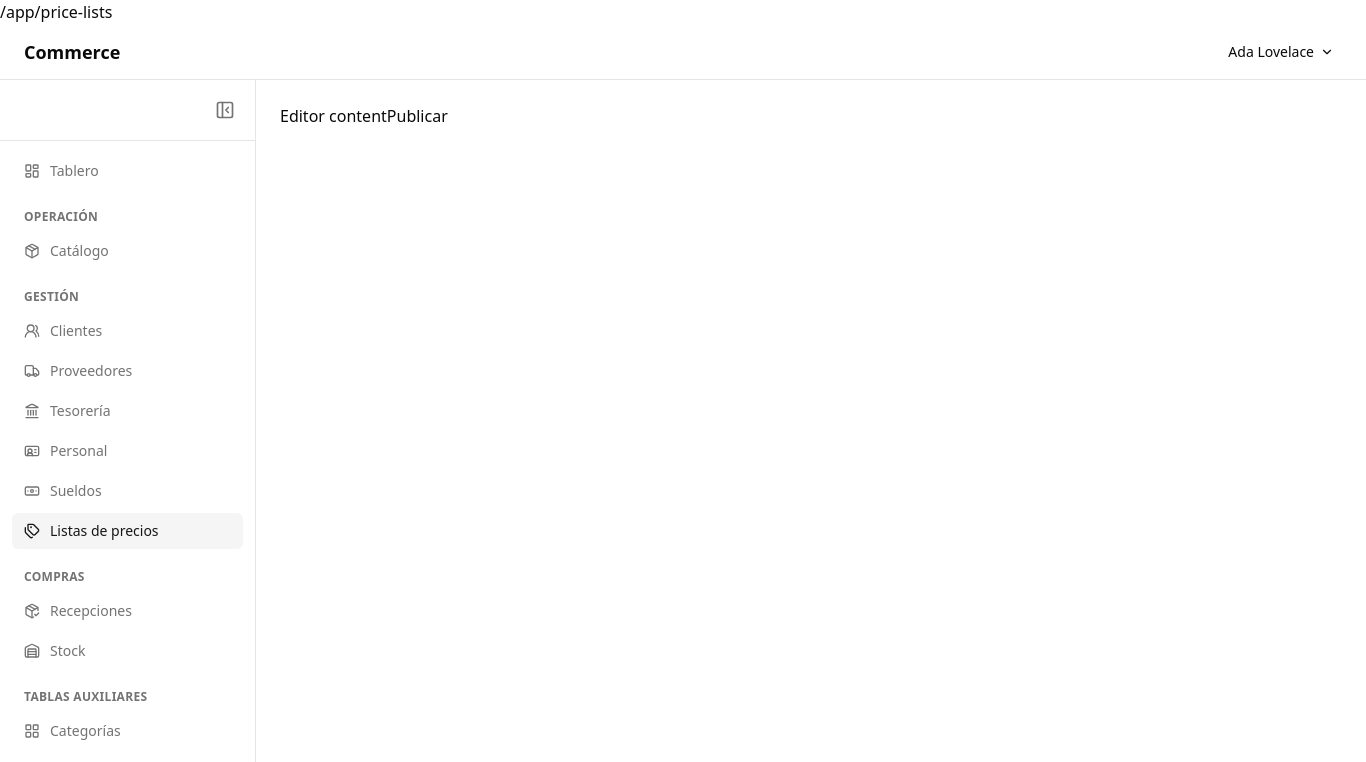
Scenario: AppLayout › unsaved changes guard › "Descartar" navigates to the clicked target
Click the link "Clientes".
click(63, 330)  # box [24,321,102,340]
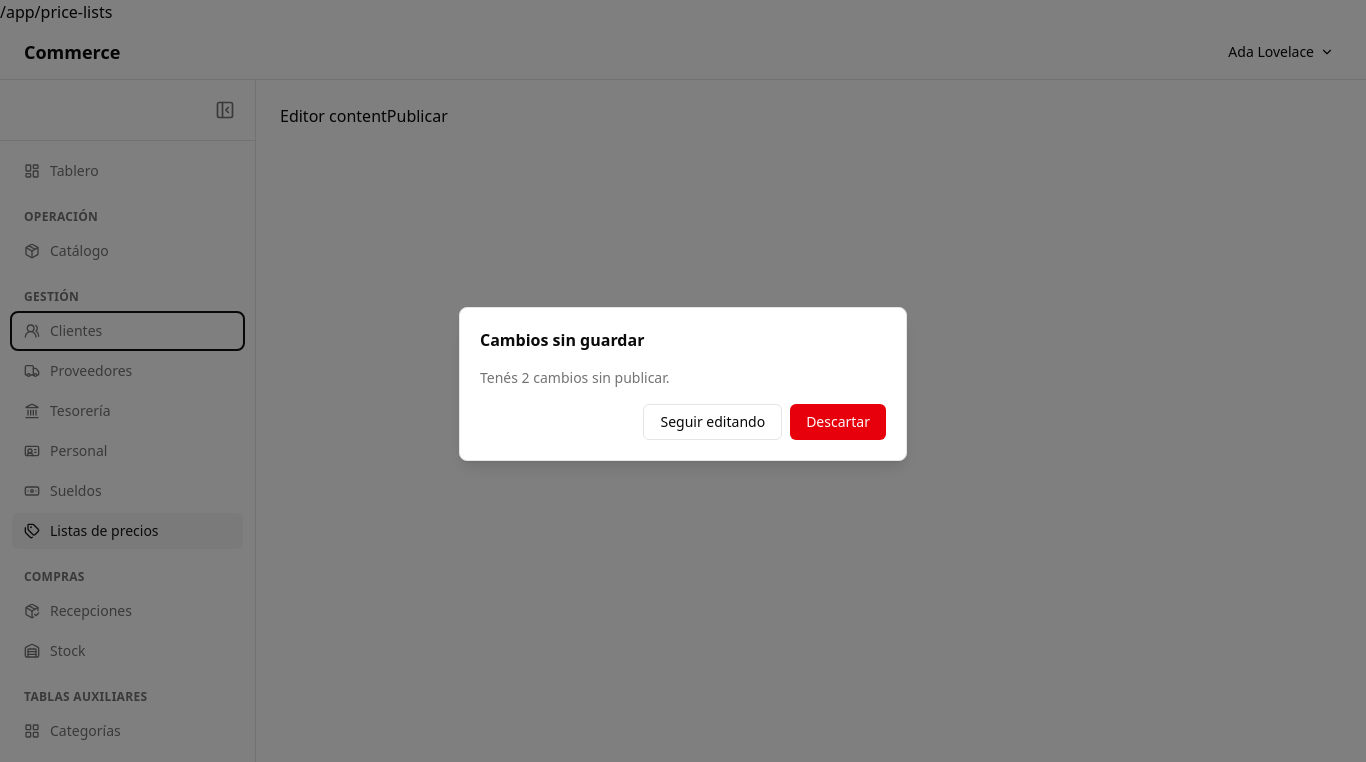
Click the button "Descartar".
click(838, 422)  # box [790,404,886,440]
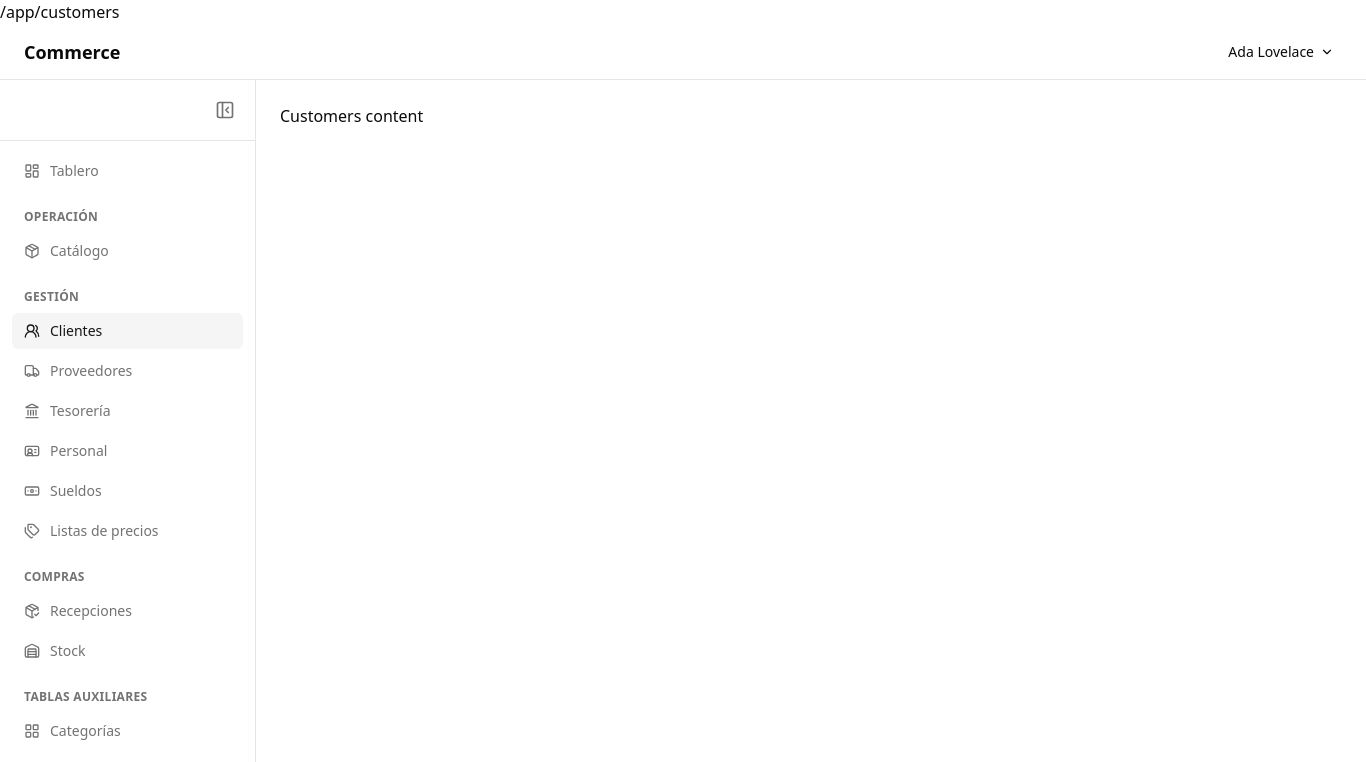
Expected: the text "Customers content" is shown, [280,105,423,127]
Expected: the text with test id "path" reads "/app/customers", [0,1,120,23]
Expected: the dialog is gone
